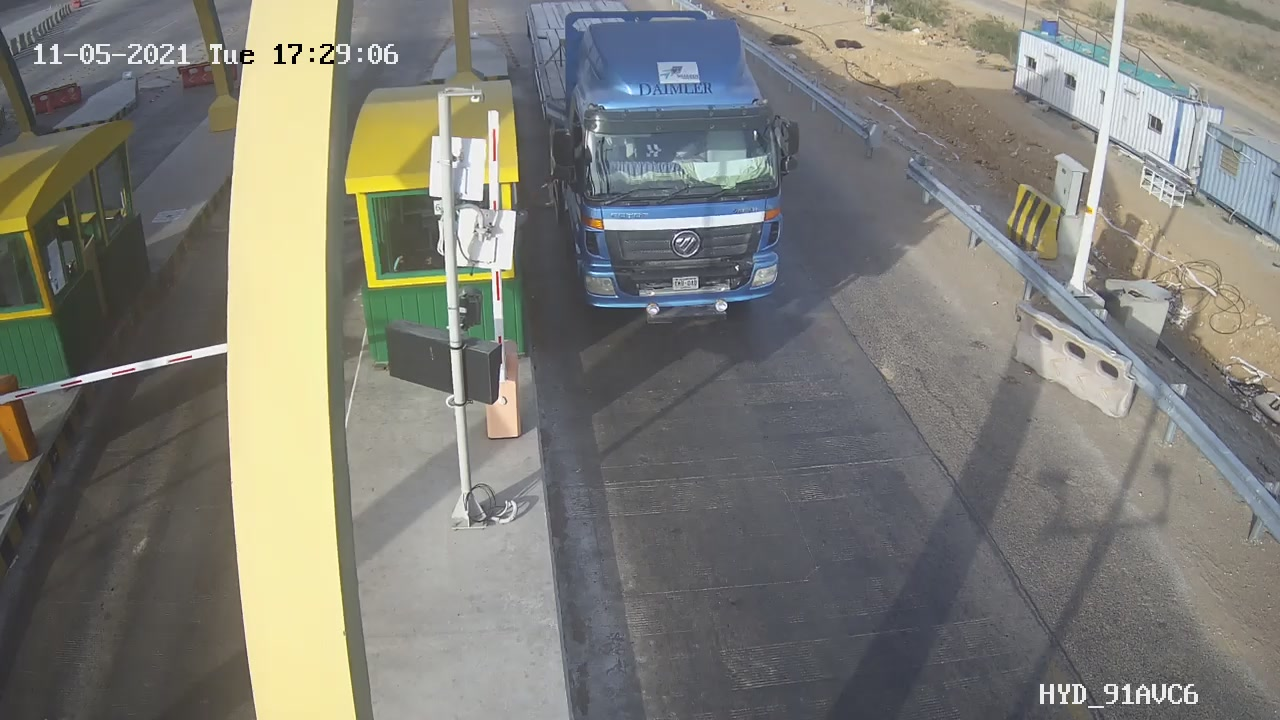F6: (511, 1, 821, 351)
